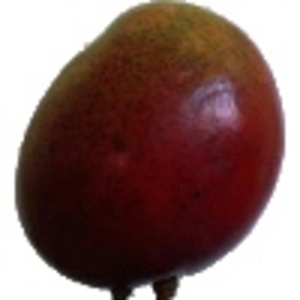manga: (15, 1, 287, 300)
